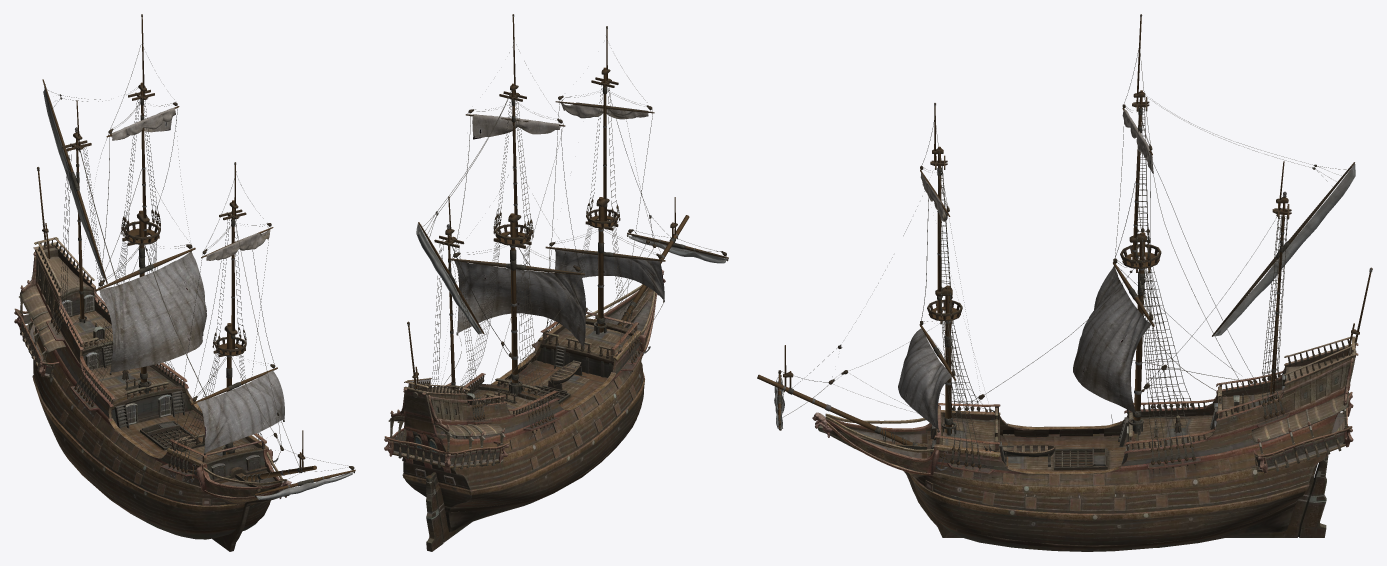
File: ship-flag.glb
3 renders of one model, left to right at view 1: azimuth 30°, elevation 25°; view 2: azimuth 150°, elevation 25°; view 3: azimuth 270°, elevation 25°, orthographic. The views are drawn at different scales.
Visible parts, largest first — view 1: dutch_ship_large_01_hull, dutch_ship_large_01_rigging, dutch_ship_large_01_sails; view 2: dutch_ship_large_01_hull, dutch_ship_large_01_rigging, dutch_ship_large_01_sails; view 3: dutch_ship_large_01_hull, dutch_ship_large_01_rigging, dutch_ship_large_01_sails.
Part boxes in pixels (x1,y1,x2,y2): dutch_ship_large_01_hull: (14,237,291,551); dutch_ship_large_01_rigging: (37,14,355,499); dutch_ship_large_01_sails: (99,108,284,452); dutch_ship_large_01_hull: (384,270,665,551); dutch_ship_large_01_rigging: (407,14,728,439); dutch_ship_large_01_sails: (454,102,664,346); dutch_ship_large_01_hull: (812,336,1358,551); dutch_ship_large_01_rigging: (757,14,1372,477); dutch_ship_large_01_sails: (898,109,1153,429).
Size of the model in its own units: 8.4 by 32.08 by 34.25.
Materials: 3 (3 with a texture image).
